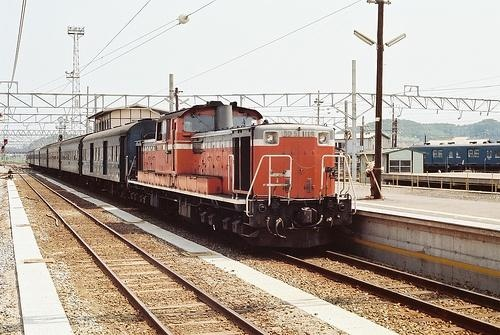train: (25, 101, 357, 254), (404, 140, 500, 171)
